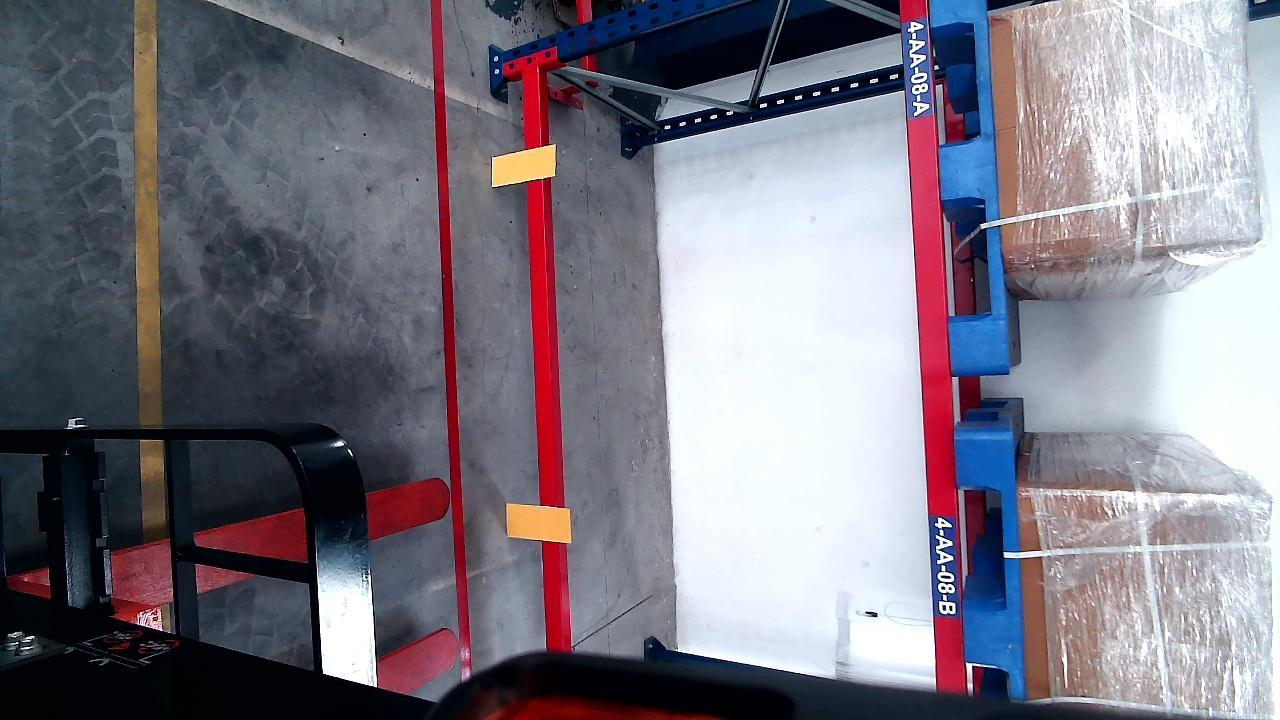red_line: (430, 1, 473, 680)
yellow_line: (134, 0, 163, 531)
